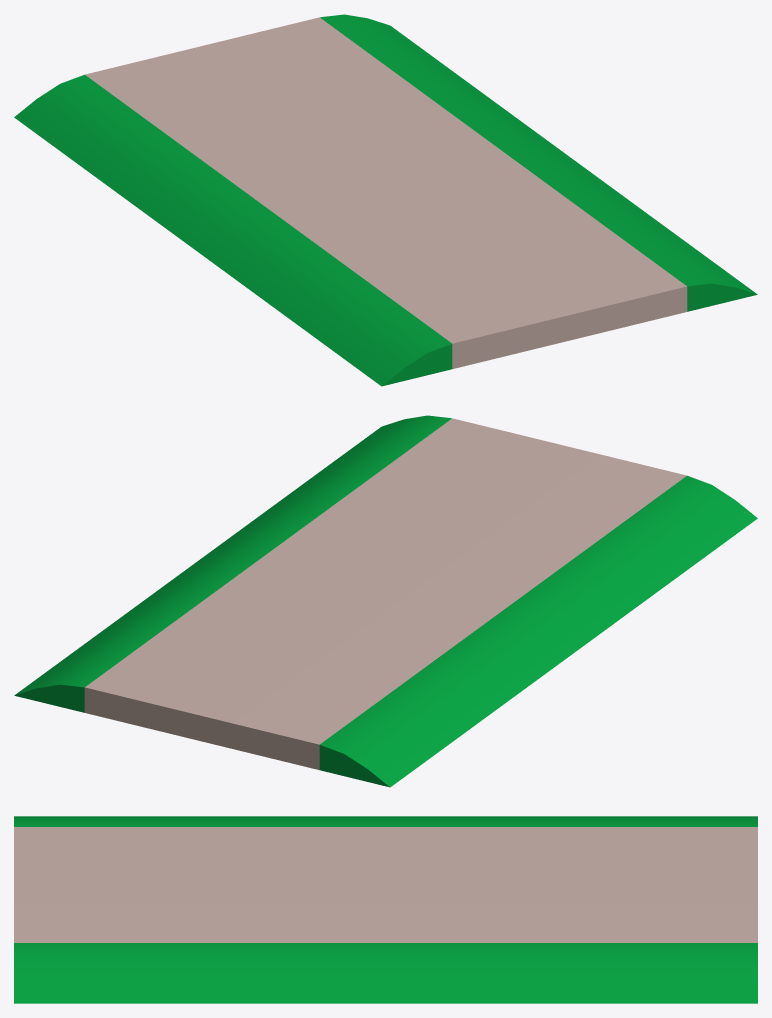
File: Farm_15_Path_1.glb
3 renders of one model, top to bottom at view 1: azimuth 30°, elevation 25°; view 2: azimuth 150°, elevation 25°; view 3: azimuth 270°, elevation 25°, orthographic.
Visible parts, largest first — view 1: Farm_15_Path_1; view 2: Farm_15_Path_1; view 3: Farm_15_Path_1.
Part boxes in pixels (<box>): Farm_15_Path_1: <box>14,14,757,386</box>; Farm_15_Path_1: <box>14,415,757,787</box>; Farm_15_Path_1: <box>14,816,757,1003</box>.
Bounding box in the file's own units: 1.61 × 0.1046 × 2.73.
1 material, 1 textured.
